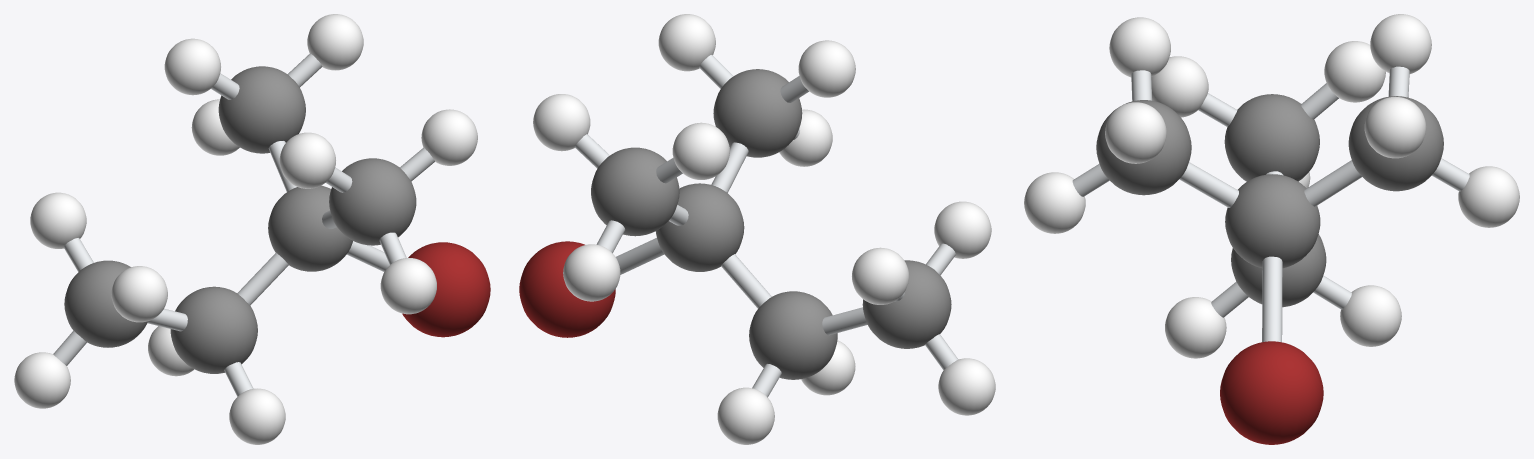
Rendered from 2-bromo-2-metilbutano.glb.
3 views of the same model, side by side, from view 1: azimuth 30°, elevation 25°; view 2: azimuth 150°, elevation 25°; view 3: azimuth 270°, elevation 25° (orthographic). The views are drawn at different scales.
Parts seen in each view (by area): view 1: instanced (×2); view 2: instanced (×2); view 3: instanced (×2).
Part boxes in pixels (left/top/right/bottom): instanced (×2): left=14, top=14, right=490, bottom=444; instanced (×2): left=519, top=14, right=995, bottom=444; instanced (×2): left=1024, top=14, right=1519, bottom=444.
Bounding box in the file's own units: 0.0582 × 0.039 × 0.0495.
